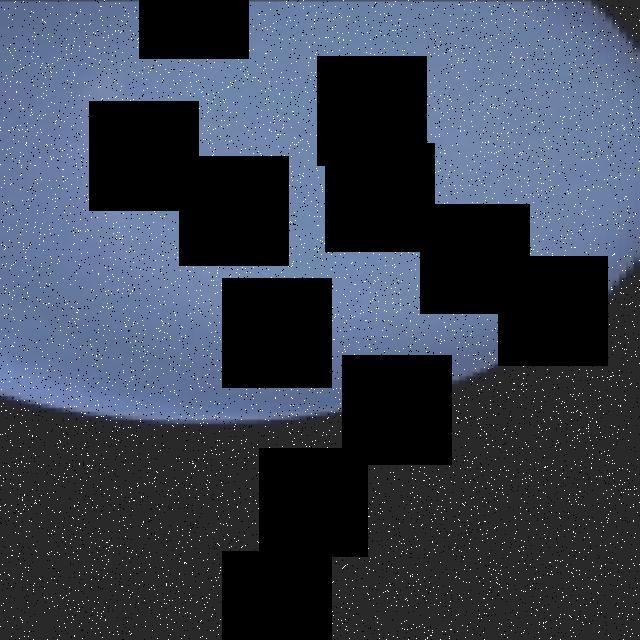Neptune: (0, 0, 640, 422)
